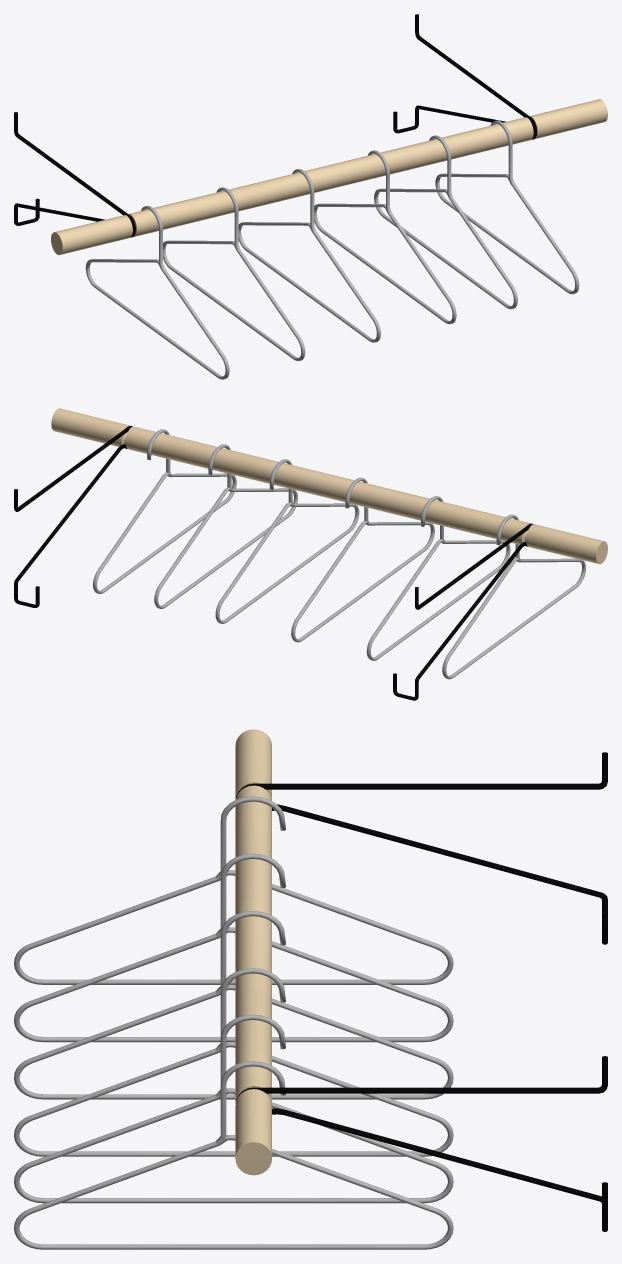
Rendered from wardrobe80_with_hanger.glb.
The picture shows the model from 3 angles, top to bottom: view 1: azimuth 30°, elevation 25°; view 2: azimuth 150°, elevation 25°; view 3: azimuth 270°, elevation 25°; orthographic projection. The views are drawn at different scales.
Parts seen in each view (by area): view 1: Geom3D (×7), Geom3D_ (×2); view 2: Geom3D (×7), Geom3D_ (×2); view 3: Geom3D (×7), Geom3D_ (×2).
Boxes of the visible parts, x1=… form: Geom3D (×7): x1=51, y1=99, x2=607, y2=379; Geom3D_ (×2): x1=14, y1=14, x2=536, y2=237; Geom3D (×7): x1=51, y1=408, x2=607, y2=679; Geom3D_ (×2): x1=14, y1=426, x2=533, y2=700; Geom3D (×7): x1=14, y1=729, x2=453, y2=1249; Geom3D_ (×2): x1=235, y1=752, x2=607, y2=1231.
Size of the model in its own units: 0.8 by 0.1933 by 0.4863.
Materials: 3 (2 with a texture image).
